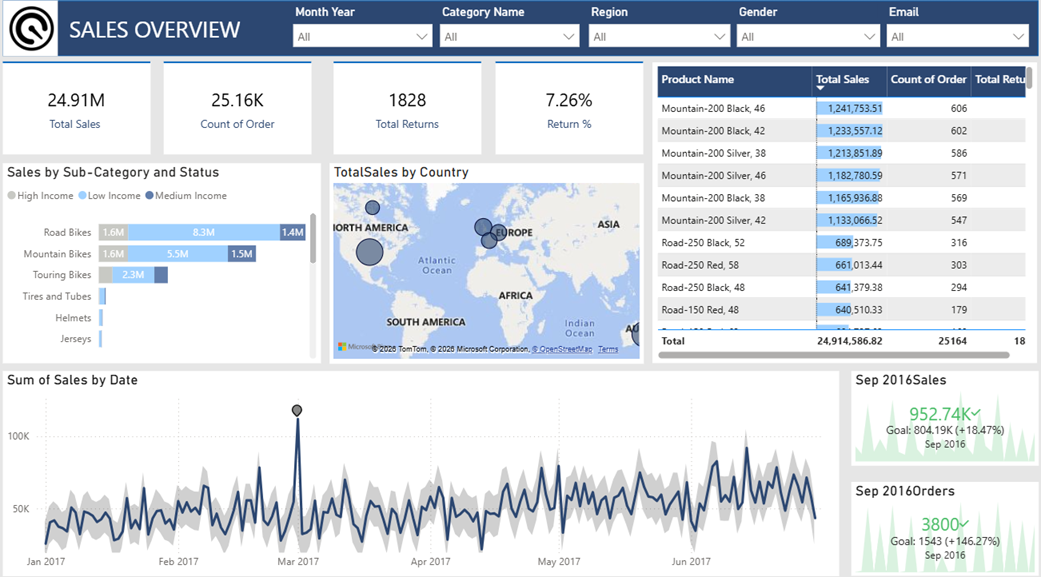

What the dashboard file says about the page in this screenshot:
{"tool":"powerbi","page":{"name":"Overview","canvas":[1280,720],"ordinal":0},"visuals":[{"type":"shape","title":"Report Title","box":[16.9,12.1,1251.1,67.6],"z":0},{"type":"image","title":"Logo","box":[16.9,12.1,66.4,67.6],"z":1000},{"type":"card","title":"Sales Card","fields":{"Values":["Measure Table.TotalSales"]},"box":[16.9,86.8,178.1,110.8],"z":1000,"group":"g1"},{"type":"group","id":"g1","title":"Card Visual","box":[16.9,12.1,773.3,185.8],"z":2000},{"type":"card","title":"Order Card","fields":{"Values":["Count(Final Sales.OrderNumber)"]},"box":[211.4,86.8,178.1,110.8],"z":3000,"group":"g1"},{"type":"barChart","title":" Sales by Sub-Category and Status","fields":{"Y":["Measure Table.TotalSales"],"Series":["Customers Table.Status"],"Category":["Product Subcategories.SubcategoryName"]},"box":[16.9,208.7,383.6,241.3],"z":3000},{"type":"card","title":"Return Card","fields":{"Values":["Sum(Returns.ReturnQuantity)"]},"box":[416,86.8,178.1,110.8],"z":4000,"group":"g1"},{"type":"lineChart","fields":{"Y":["Sum(Final Sales.Sales)"],"Category":["DateTable.Date"]},"box":[16.9,459.7,1009.8,248.5],"z":4000},{"type":"card","title":"Return% Card","fields":{"Values":["Measure Table.%return"]},"box":[611.8,86.8,178.1,110.8],"z":5000,"group":"g1"},{"type":"kpi","fields":{"Indicator":["Measure Table.TotalSales"],"TrendLine":["DateTable.YearMonth"],"Goal":["Measure Table.prevmonthsales"]},"box":[1041.2,459.7,226.8,114.6],"z":5000},{"type":"shape","title":"Sales line","box":[16.9,12.1,178.1,149.4],"z":6000,"group":"g1"},{"type":"kpi","fields":{"Indicator":["CountNonNull(Final Sales.OrderNumber)"],"TrendLine":["DateTable.YearMonth"],"Goal":["Measure Table.prevmonthorders"]},"box":[1041.2,593.6,226.8,114.6],"z":6000},{"type":"shape","title":"Order line","box":[211.4,12.1,178.1,149.4],"z":7000,"group":"g1"},{"type":"tableEx","fields":{"Values":["Products.ProductName","Measure Table.TotalSales","Final Sales.OrderNumber","Sum(Returns.ReturnQuantity)"]},"box":[801.1,86.9,464.5,363.1],"z":7000},{"type":"shape","title":"Return line","box":[416,12.1,178.1,149.4],"z":8000,"group":"g1"},{"type":"map","fields":{"Size":["Measure Table.TotalSales"],"Category":["Territories.Country"]},"box":[411.4,208.7,378.8,241.3],"z":8000},{"type":"shape","title":"Return% line","box":[611.8,12.1,178.1,149.4],"z":9000,"group":"g1"},{"type":"slicer","fields":{"Values":["DateTable.YearMonth"]},"box":[357.1,12.1,188.2,67.6],"z":13000},{"type":"slicer","fields":{"Values":["Product Categories.CategoryName"]},"box":[534.5,12.1,188.2,67.6],"z":13500},{"type":"slicer","fields":{"Values":["Territories.Region"]},"box":[714.2,12.1,190.6,67.6],"z":14000},{"type":"slicer","fields":{"Values":["Customers Table.Gender"]},"box":[892.8,12.1,193,67.6],"z":14500},{"type":"slicer","fields":{"Values":["Customers Table.EmailID"]},"box":[1073.7,12.1,191.8,67.6],"z":15500}]}

Visuals, with their boxes in screenshot pixels (x1, y1, x2, y2), scaled from the page's 1280x720 canvas onto the 1042x577 screenshot:
"Report Title" shape: [14, 10, 1032, 64]
"Logo" image: [14, 10, 68, 64]
"Sales Card" card: [14, 70, 159, 158]
"Card Visual" group: [14, 10, 643, 159]
"Order Card" card: [172, 70, 317, 158]
" Sales by Sub-Category and Status" barChart: [14, 167, 326, 361]
"Return Card" card: [339, 70, 484, 158]
lineChart - Sum(Final Sales.Sales) x DateTable.Date: [14, 368, 836, 568]
"Return% Card" card: [498, 70, 643, 158]
kpi - Measure Table.TotalSales x DateTable.YearMonth: [848, 368, 1032, 460]
"Sales line" shape: [14, 10, 159, 129]
kpi - CountNonNull(Final Sales.OrderNumber) x DateTable.YearMonth: [848, 476, 1032, 568]
"Order line" shape: [172, 10, 317, 129]
tableEx - Products.ProductName x Measure Table.TotalSales: [652, 70, 1030, 361]
"Return line" shape: [339, 10, 484, 129]
map - Measure Table.TotalSales x Territories.Country: [335, 167, 643, 361]
"Return% line" shape: [498, 10, 643, 129]
slicer - DateTable.YearMonth: [291, 10, 444, 64]
slicer - Product Categories.CategoryName: [435, 10, 588, 64]
slicer - Territories.Region: [581, 10, 737, 64]
slicer - Customers Table.Gender: [727, 10, 884, 64]
slicer - Customers Table.EmailID: [874, 10, 1030, 64]
